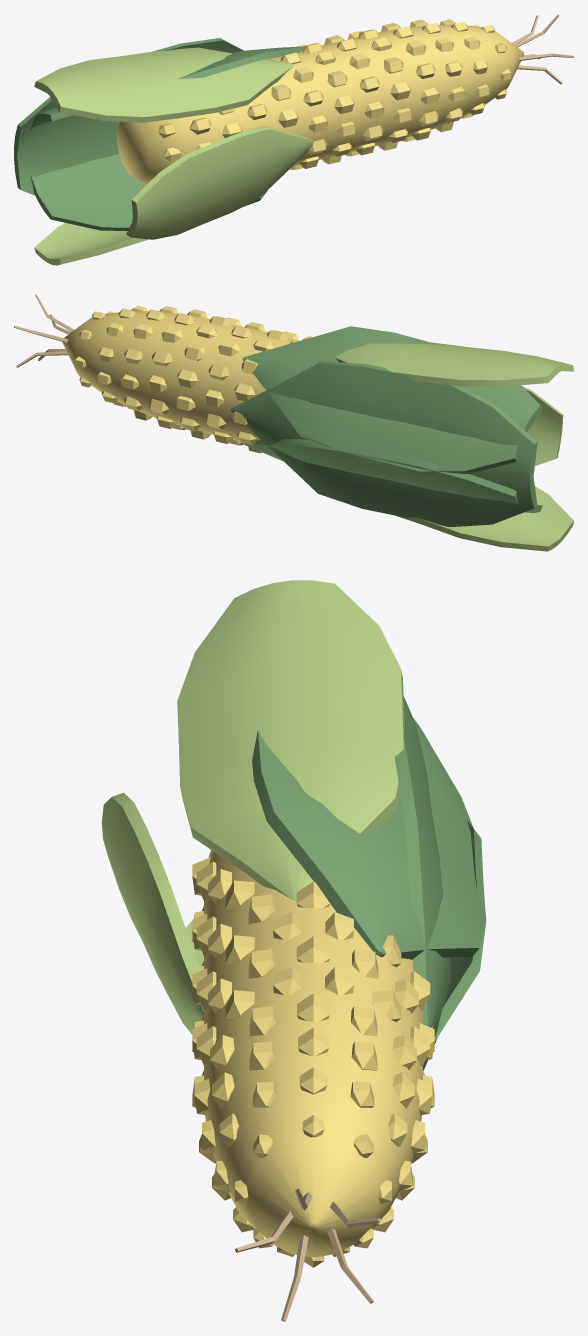
Rendered from fresh-produce-and-groceries-sweetcorn-cob-44f02a08__24381.glb.
3 views of the same model, one above another, from view 1: azimuth 30°, elevation 25°; view 2: azimuth 150°, elevation 25°; view 3: azimuth 270°, elevation 25° (orthographic). The views are drawn at different scales.
Parts seen in each view (by area): view 1: sweetcorn-cob; view 2: sweetcorn-cob; view 3: sweetcorn-cob.
Part boxes in pixels (<box>): sweetcorn-cob: <box>14,14,573,265</box>; sweetcorn-cob: <box>14,294,573,551</box>; sweetcorn-cob: <box>101,580,486,1321</box>.
Bounding box in the file's own units: 0.2317 × 0.0756 × 0.0747.
